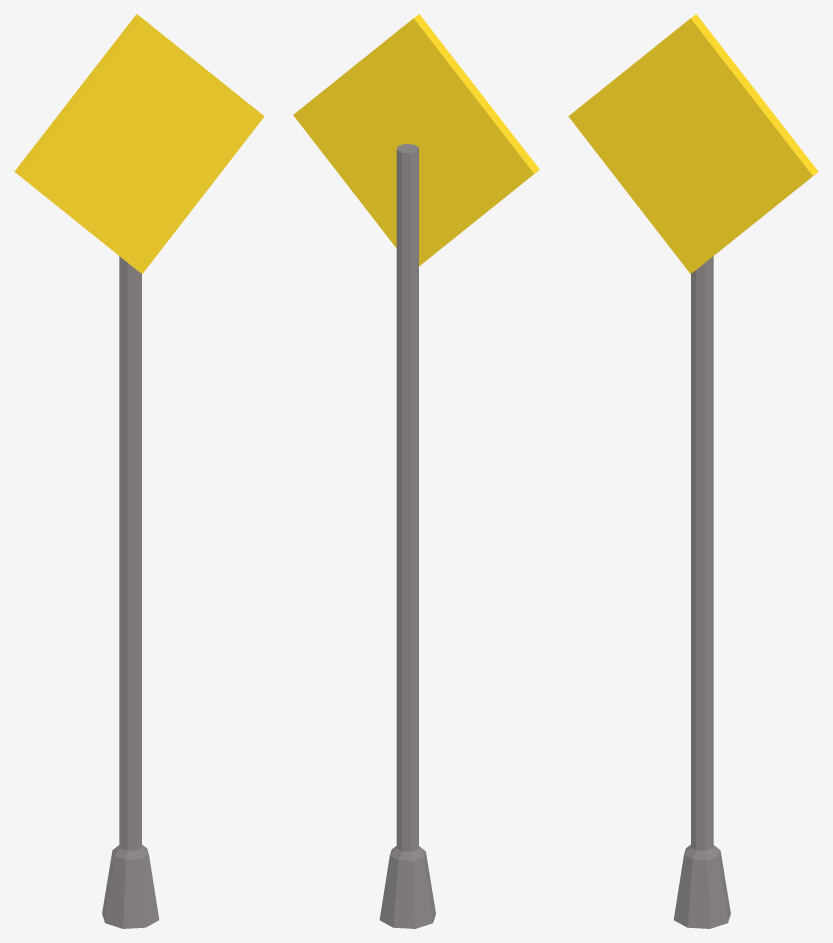
File: traffic-sign-rhomb.glb
The picture shows the model from 3 angles, left to right: view 1: azimuth 30°, elevation 25°; view 2: azimuth 150°, elevation 25°; view 3: azimuth 330°, elevation 25°; orthographic projection.
Visible parts, largest first — view 1: traffic-sign-rhomb; view 2: traffic-sign-rhomb; view 3: traffic-sign-rhomb.
Boxes of the visible parts, x1=… form: traffic-sign-rhomb: x1=14, y1=14, x2=264, y2=928; traffic-sign-rhomb: x1=293, y1=14, x2=539, y2=928; traffic-sign-rhomb: x1=568, y1=14, x2=818, y2=928.
Bounding box in the file's own units: 0.7223 × 2.56 × 0.1519.
1 material, 1 textured.
